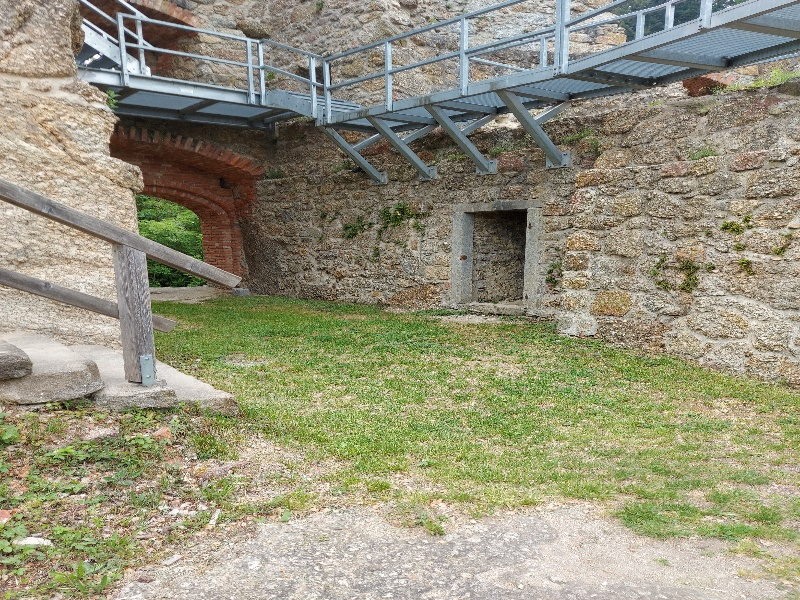door1: (446, 194, 549, 322)
